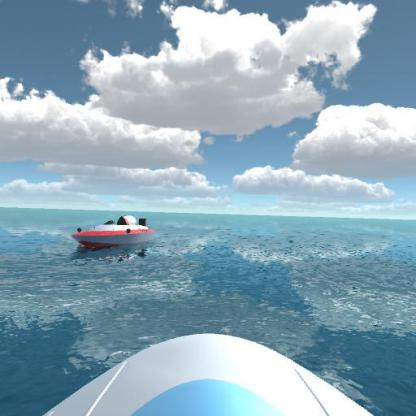usv3: (62, 209, 158, 260)
